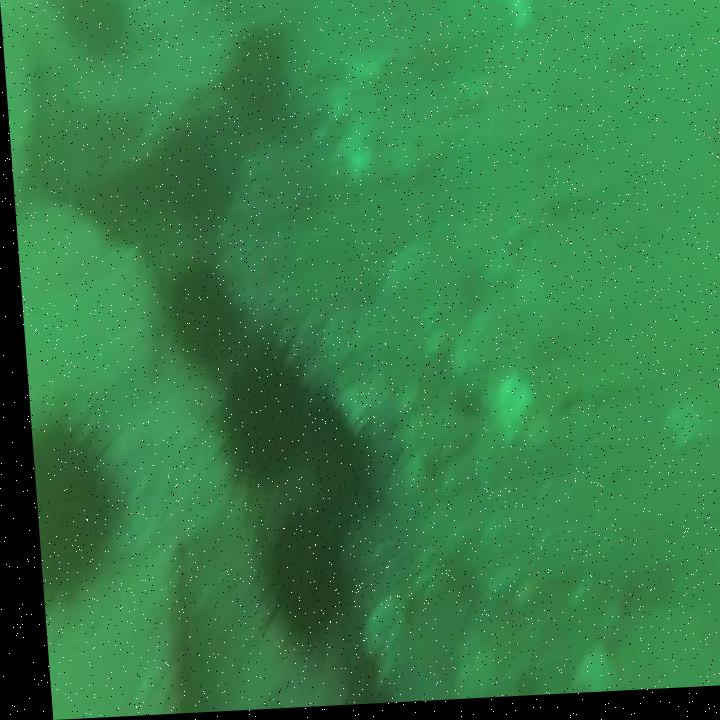echinus: (25, 431, 108, 606), (215, 346, 298, 481), (258, 521, 333, 647), (298, 401, 362, 521), (156, 125, 225, 232), (164, 272, 228, 374), (226, 38, 288, 129)
